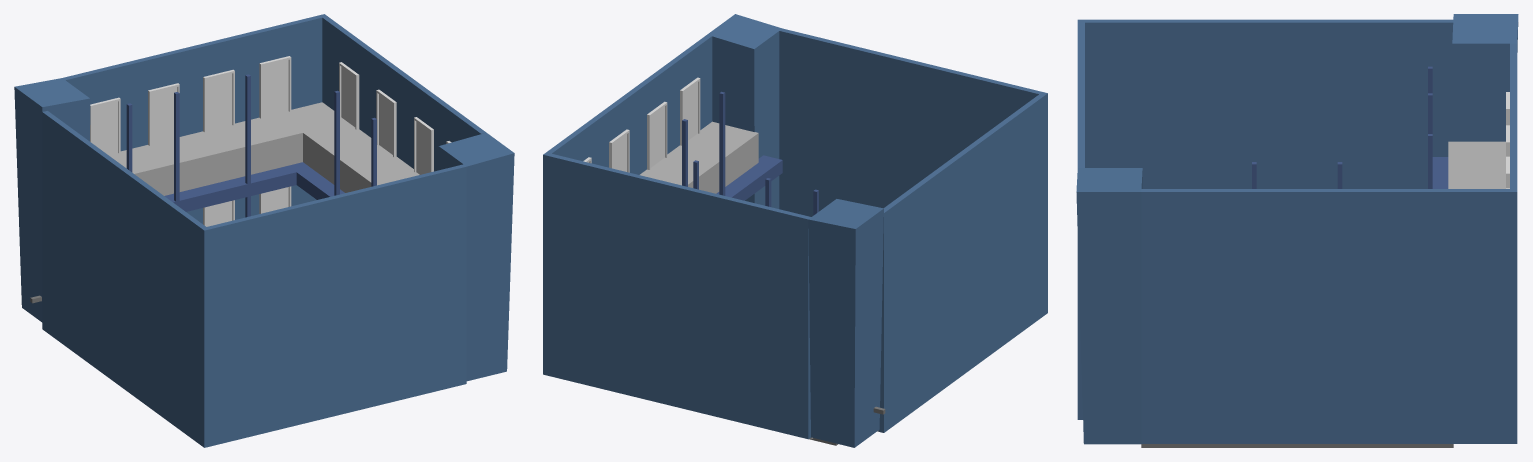
The model's file is POZO FINAL.fbx.
3 views of the same model, side by side, from view 1: azimuth 30°, elevation 25°; view 2: azimuth 150°, elevation 25°; view 3: azimuth 270°, elevation 25° (orthographic). The views are drawn at different scales.
Parts seen in each view (by area): view 1: pasted__pCube15, pCube36, pCube34, pCube35, pCube33; view 2: pCube36, pasted__pCube15, pCube34, pCube35, pCube33; view 3: pCube36, pasted__pCube15, pCube34, pCube33, group9_pasted__pasted__pasted__pasted__pCube4.
Part boxes in pixels (x1=…): pasted__pCube15: x1=42, y1=111, x2=466, y2=447; pCube36: x1=14, y1=14, x2=514, y2=381; pCube34: x1=108, y1=102, x2=419, y2=195; pCube35: x1=90, y1=56, x2=451, y2=226; pCube33: x1=126, y1=74, x2=376, y2=217; pCube36: x1=543, y1=14, x2=883, y2=447; pasted__pCube15: x1=779, y1=28, x2=1047, y2=432; pCube34: x1=640, y1=121, x2=878, y2=439; pCube35: x1=583, y1=77, x2=700, y2=172; pCube33: x1=682, y1=91, x2=818, y2=215; pCube36: x1=1076, y1=14, x2=1518, y2=444; pasted__pCube15: x1=1077, y1=19, x2=1453, y2=419; pCube34: x1=1448, y1=141, x2=1505, y2=188; pCube33: x1=1252, y1=66, x2=1448, y2=188; group9_pasted__pasted__pasted__pasted__pCube4: x1=1141, y1=444, x2=1453, y2=447.
Bounding box in the file's own units: 59.52 × 44.47 × 62.32.
